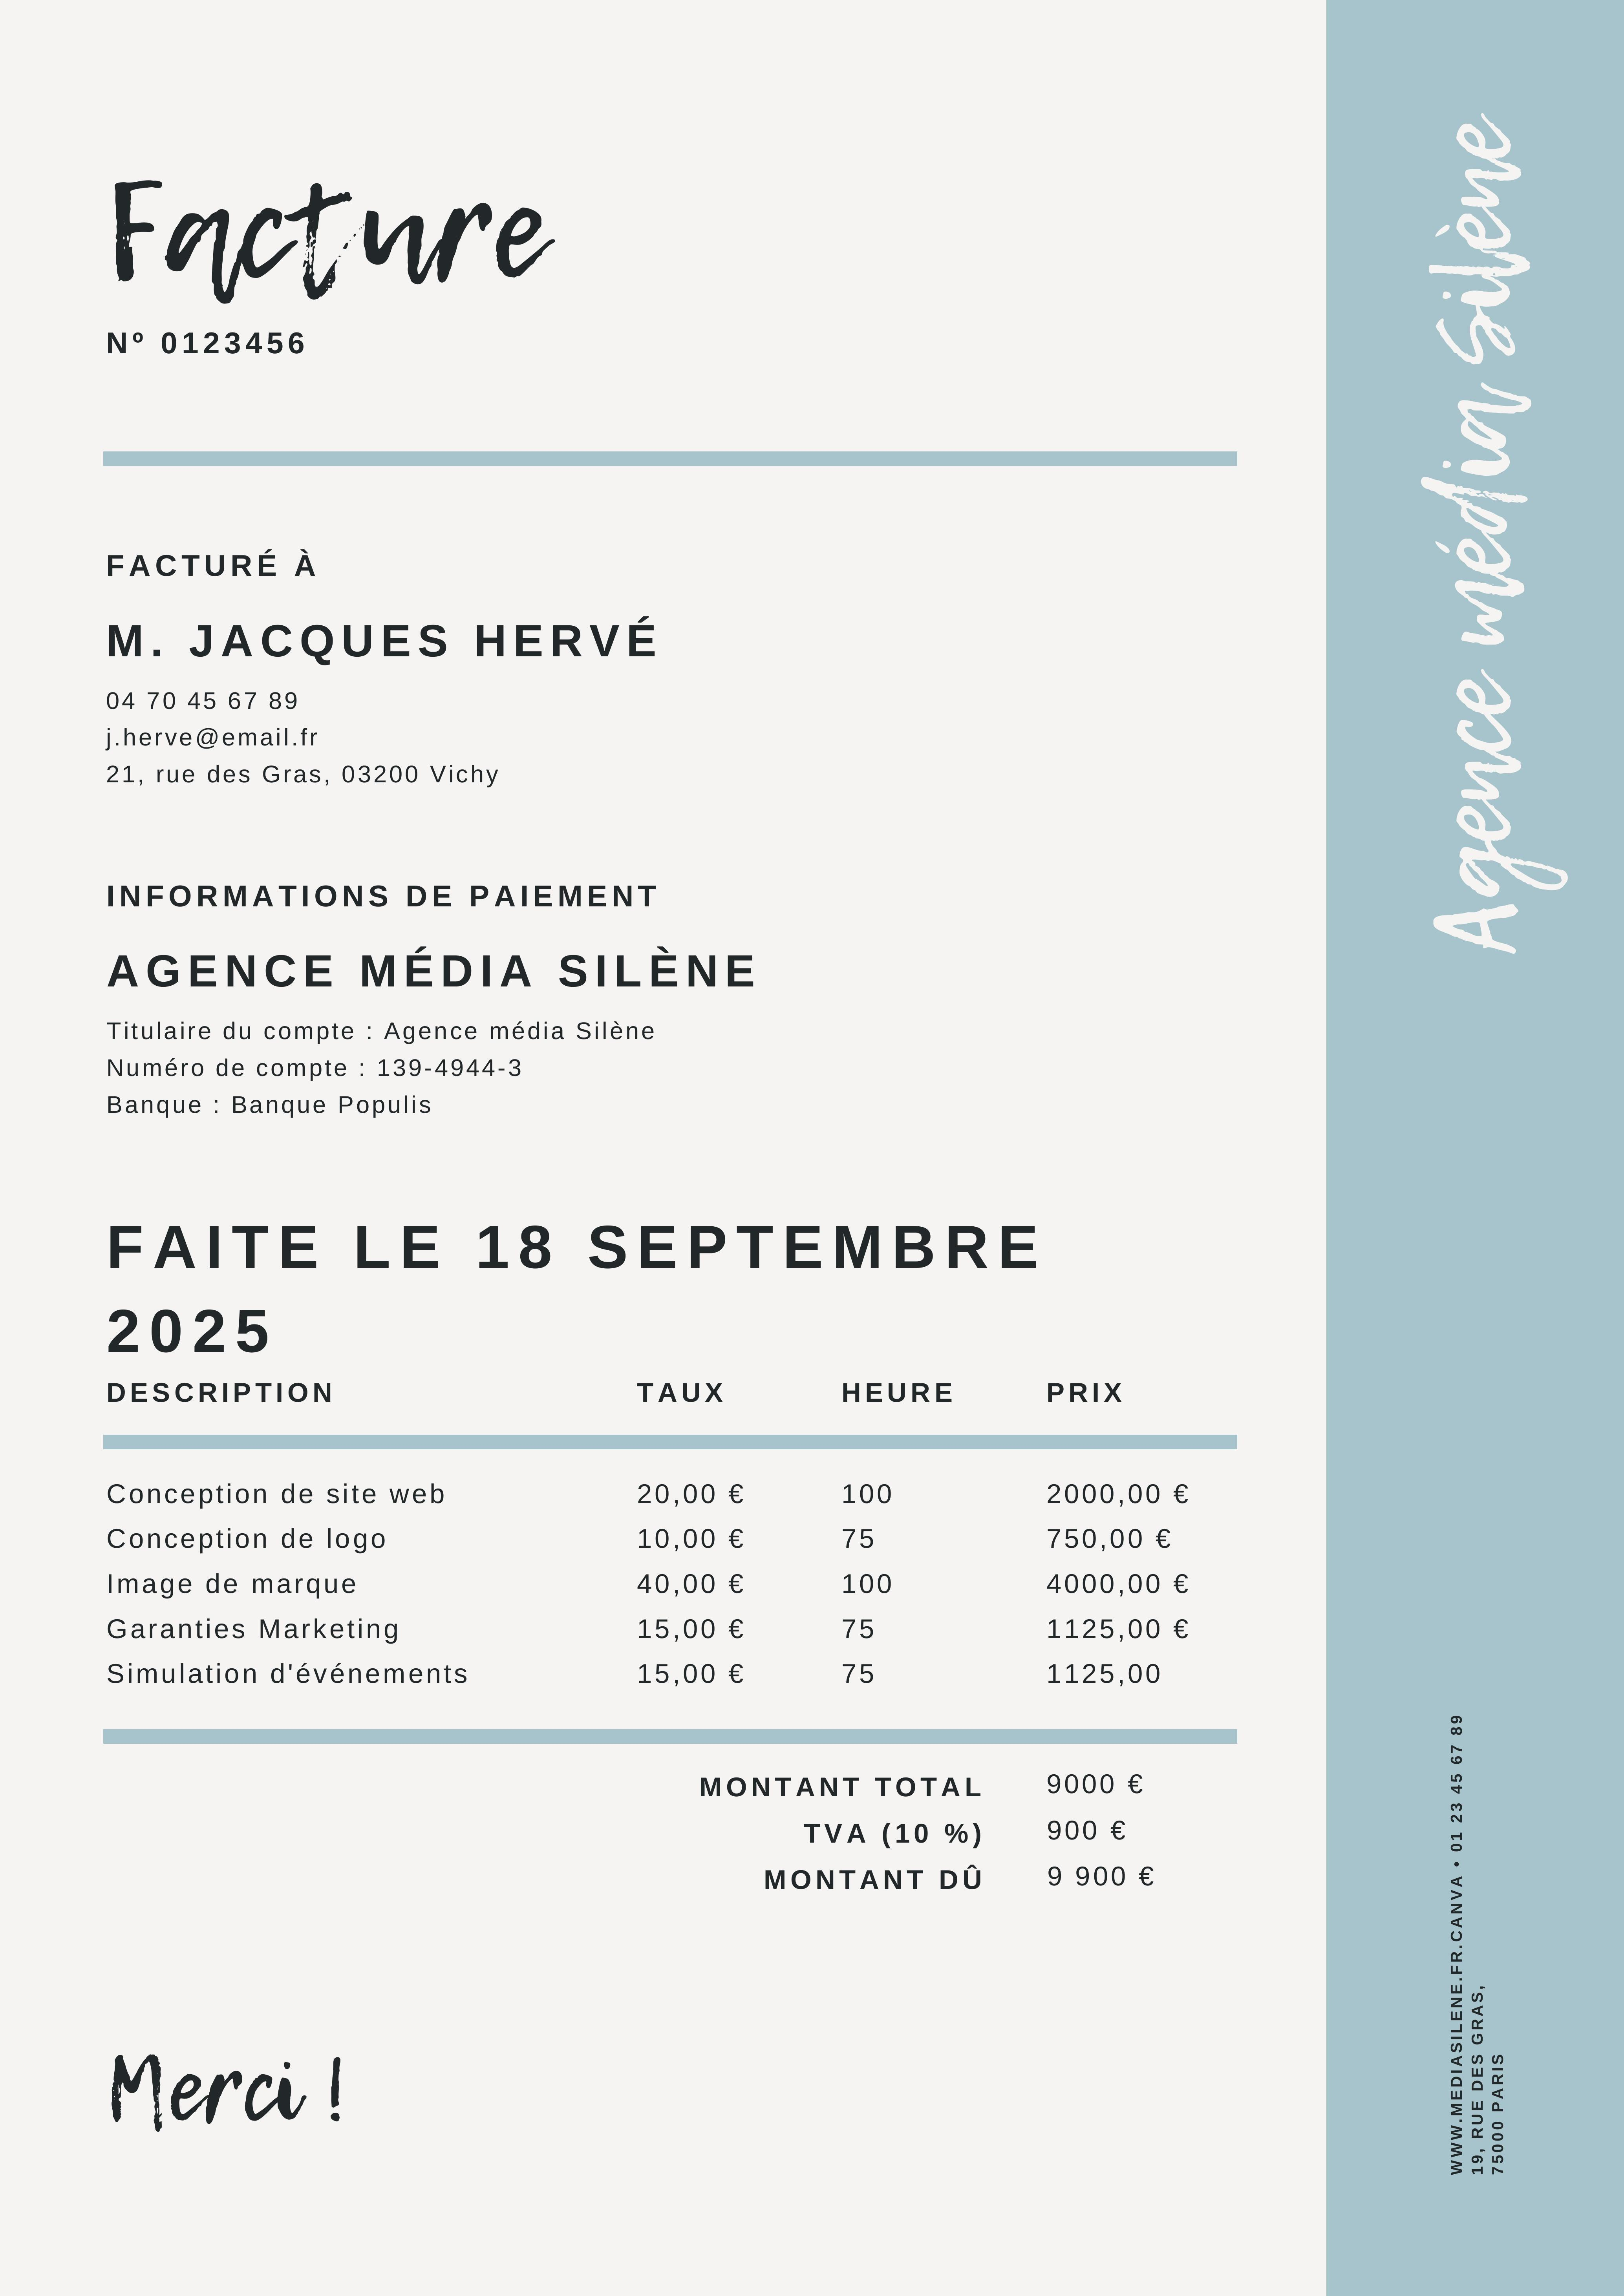ROI: (97, 1368, 1241, 1739), (1394, 70, 1592, 980), (102, 873, 779, 1124), (97, 546, 687, 799), (696, 1760, 1176, 1904), (95, 313, 415, 379)
